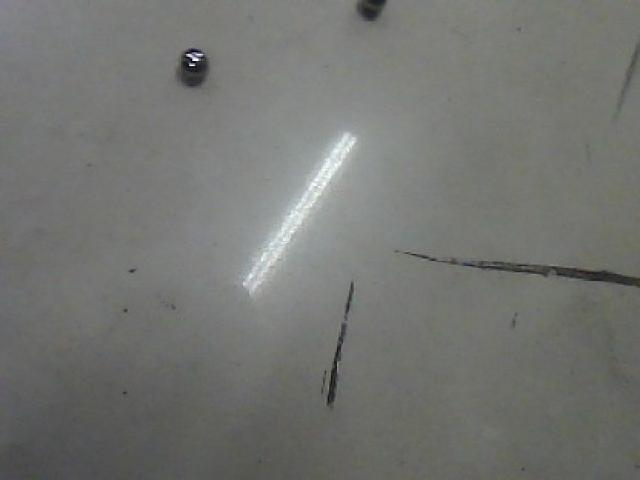steel-ball: (171, 31, 223, 95)
